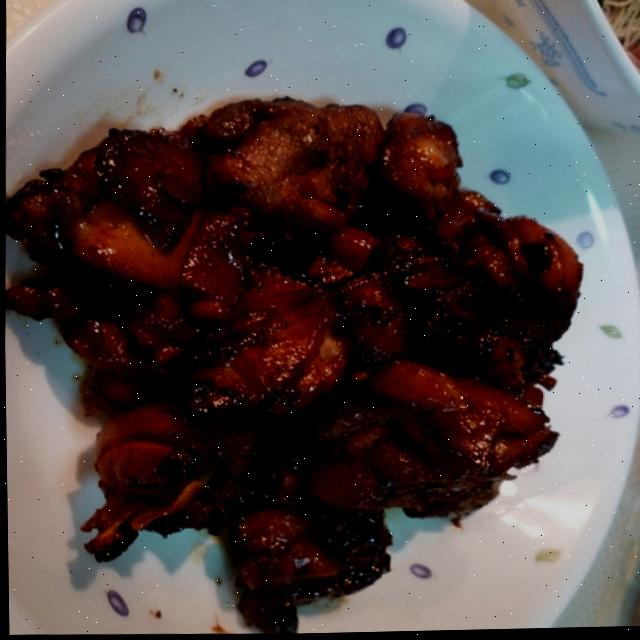鸡肉料理 含炸鸡: (1, 43, 604, 640)
